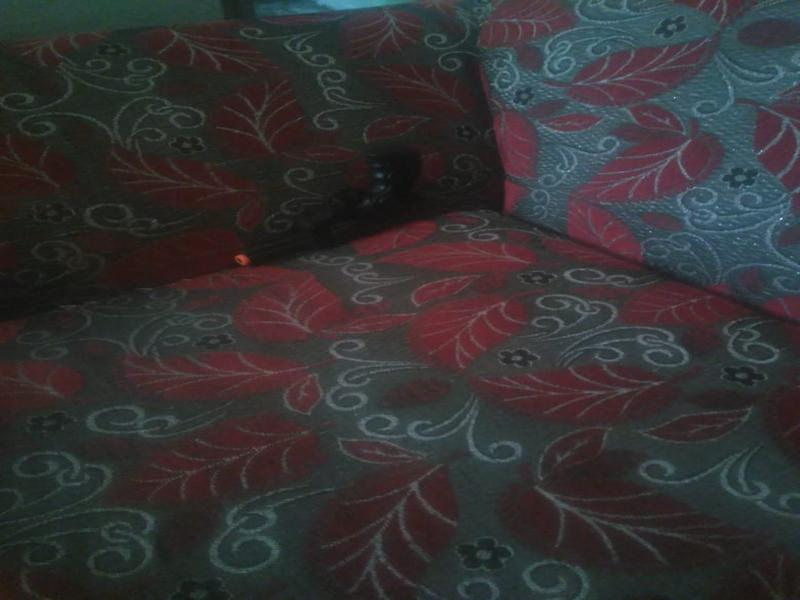gun: (234, 137, 430, 270)
